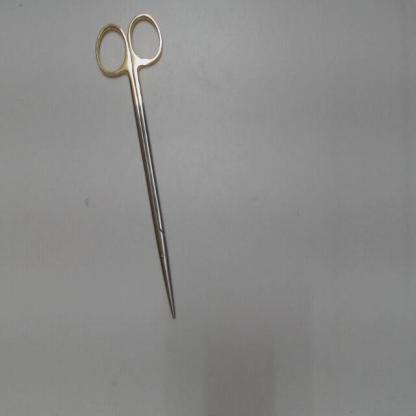7 Metzenbaum Scissors: (90, 8, 178, 323)
